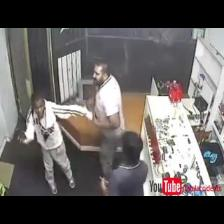person: (19, 94, 92, 194), (93, 61, 124, 179), (101, 132, 147, 195)
